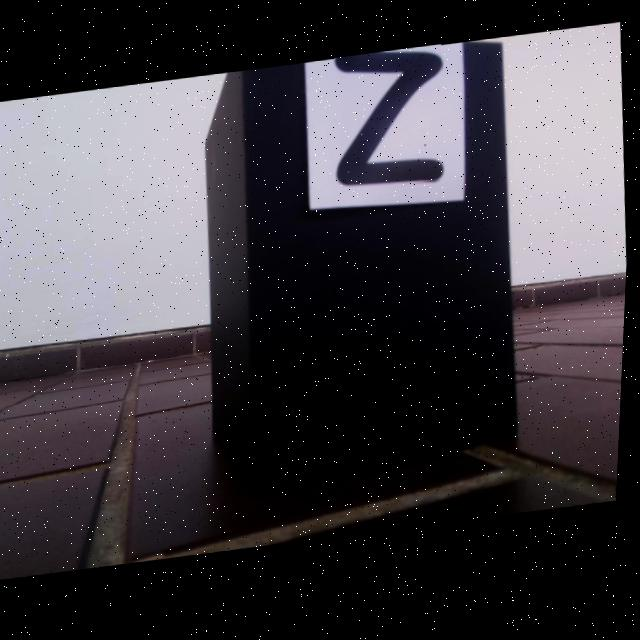Z: (335, 57, 445, 190)
